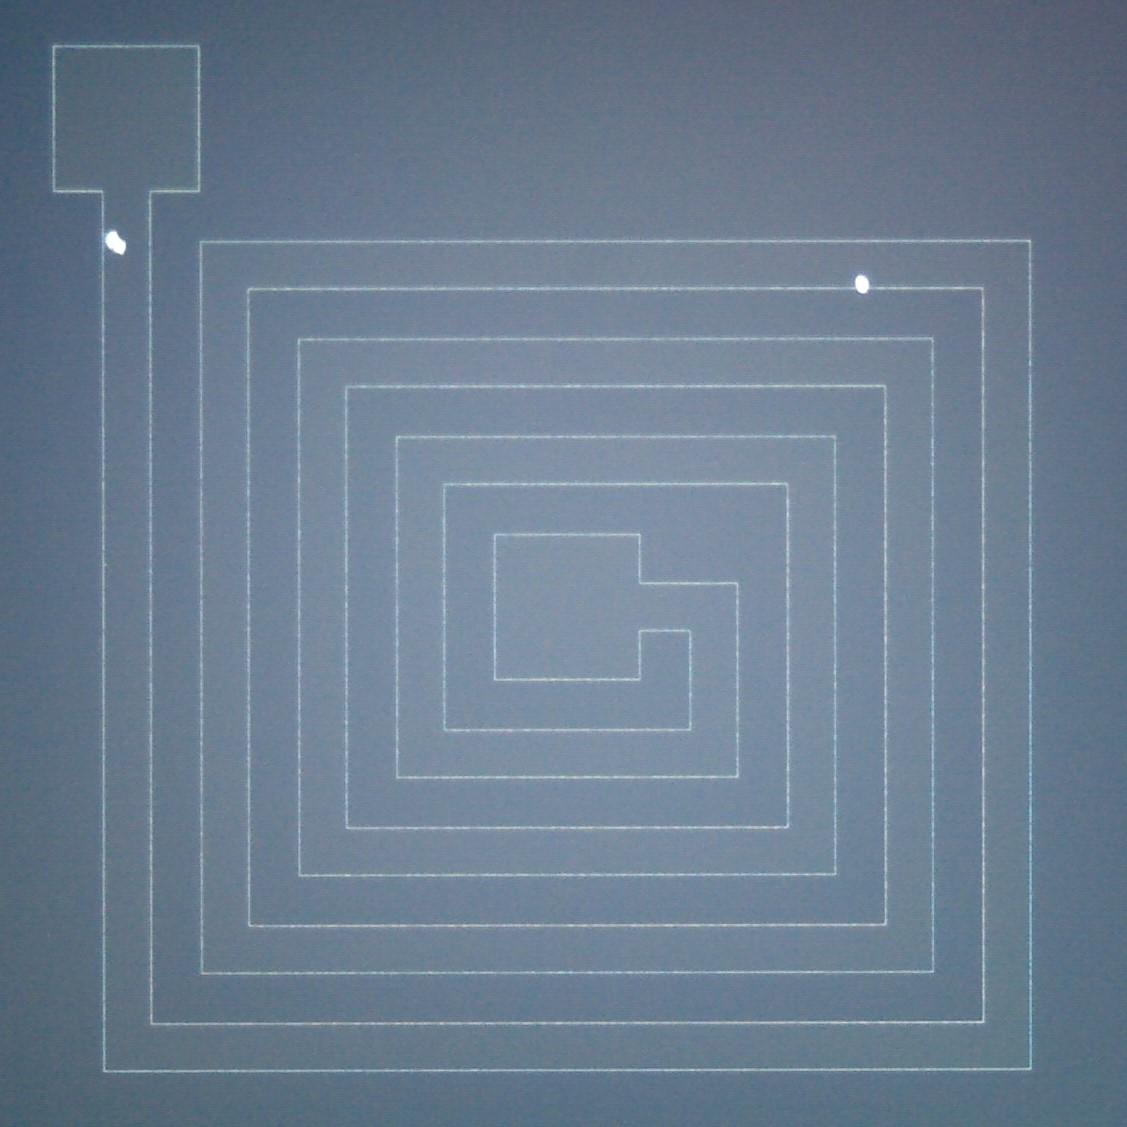B_point: (104, 229, 128, 256), (854, 275, 870, 294)
